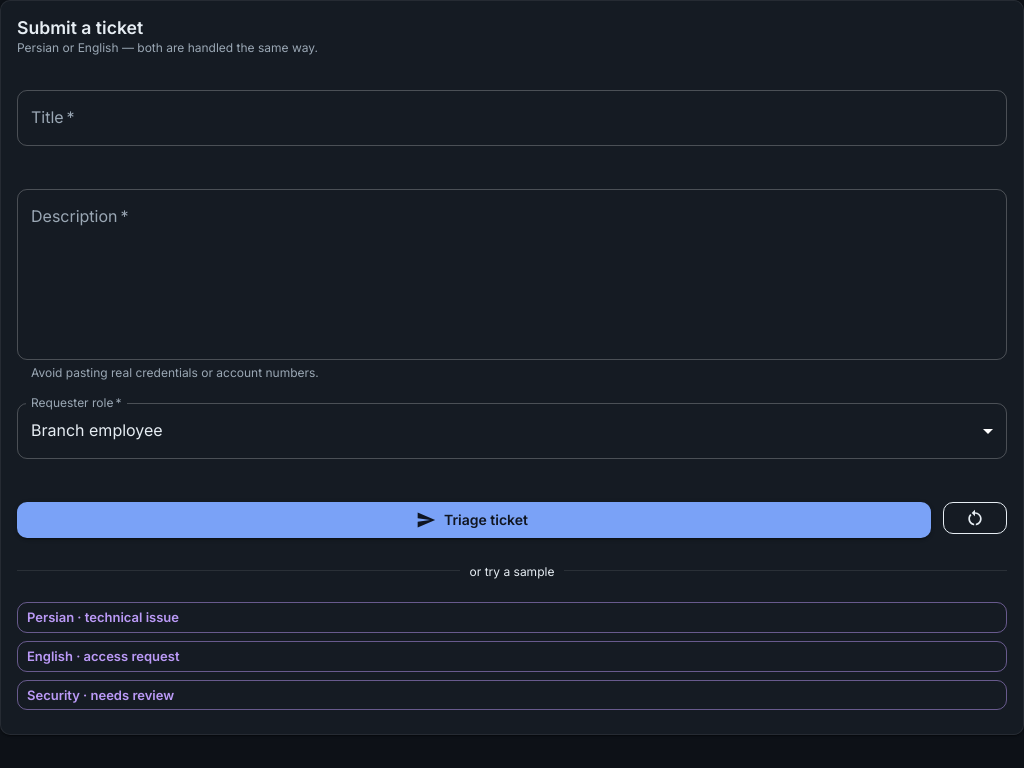
Test: TicketForm › rejects a ticket that is too short and does not submit
In the field labelled "Title *": coordinates (512, 118) [17,90,1007,146], type "ab"
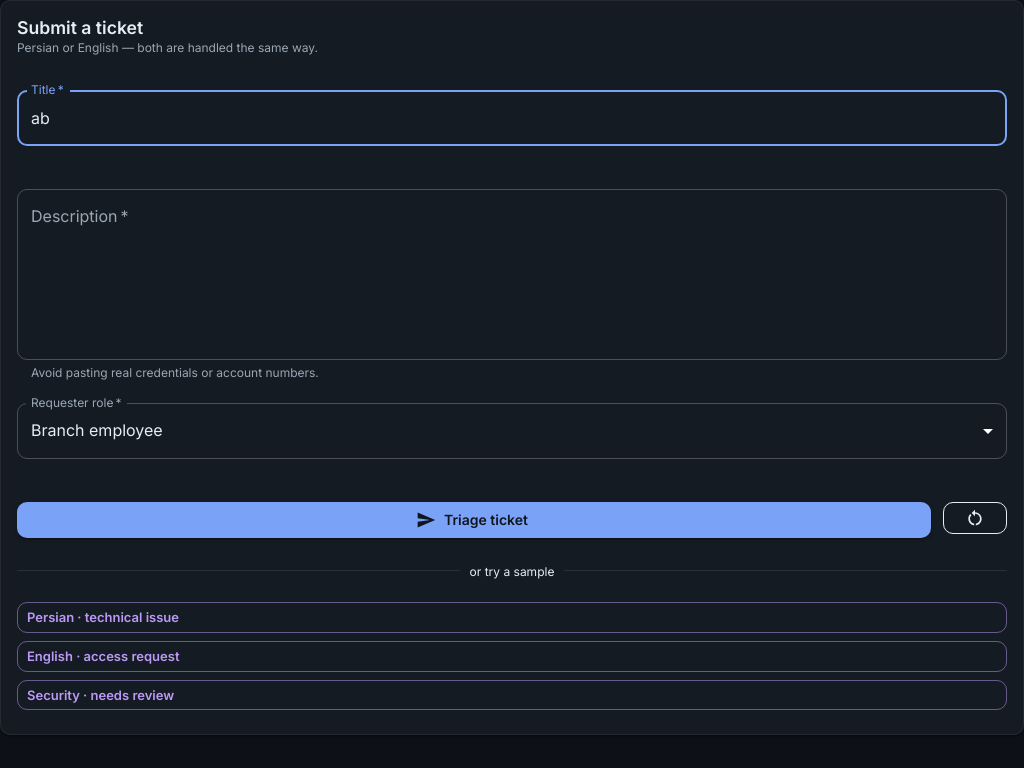
In the text box labelled "Description *": coordinates (512, 274) [31,205,993,343], type "short"
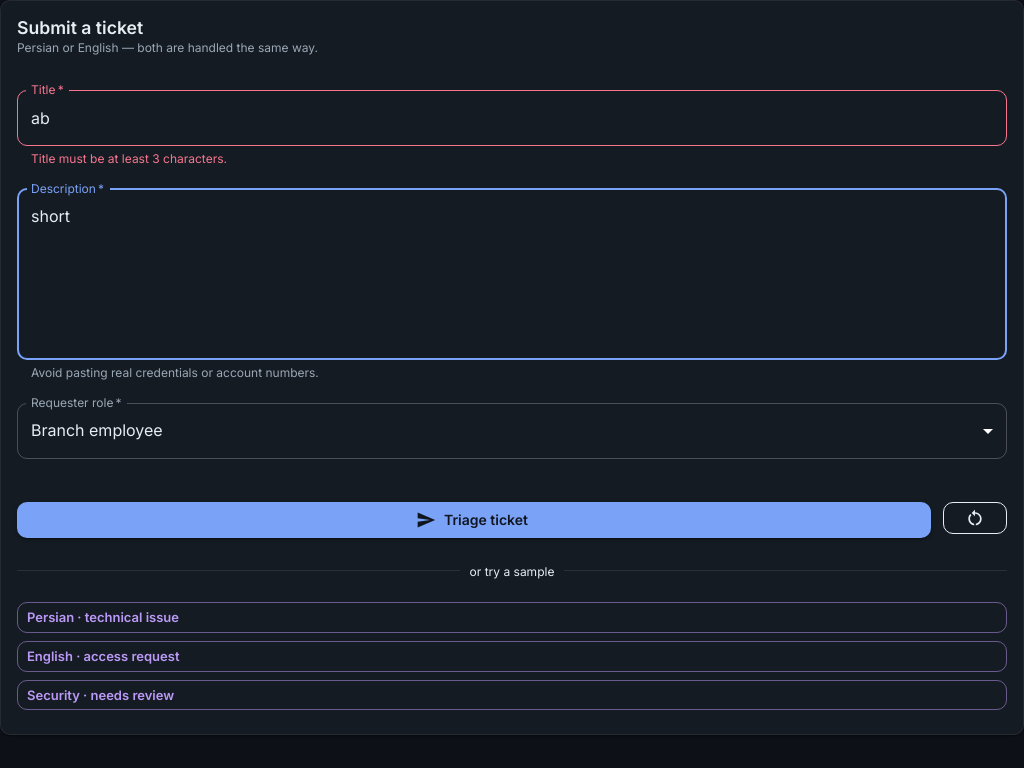
Click the button "Triage ticket": coordinates (474, 520) [17,502,931,538]
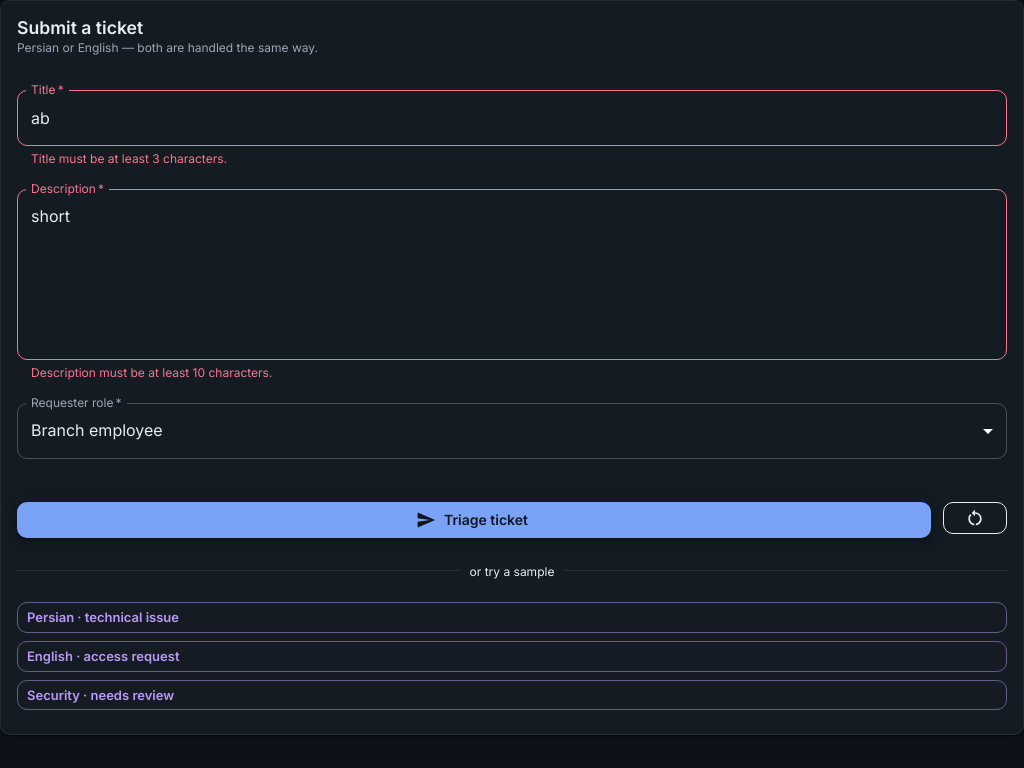
Check: the text "Title must be at least 3 characters." is shown, box [31,151,227,166]
Check: the text "Description must be at least 10 characters." is shown, box [31,365,272,380]
